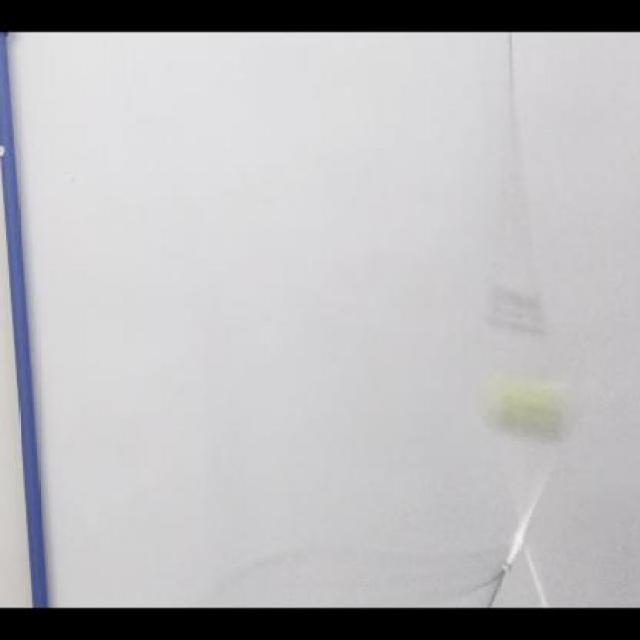baseball: (482, 362, 569, 446)
